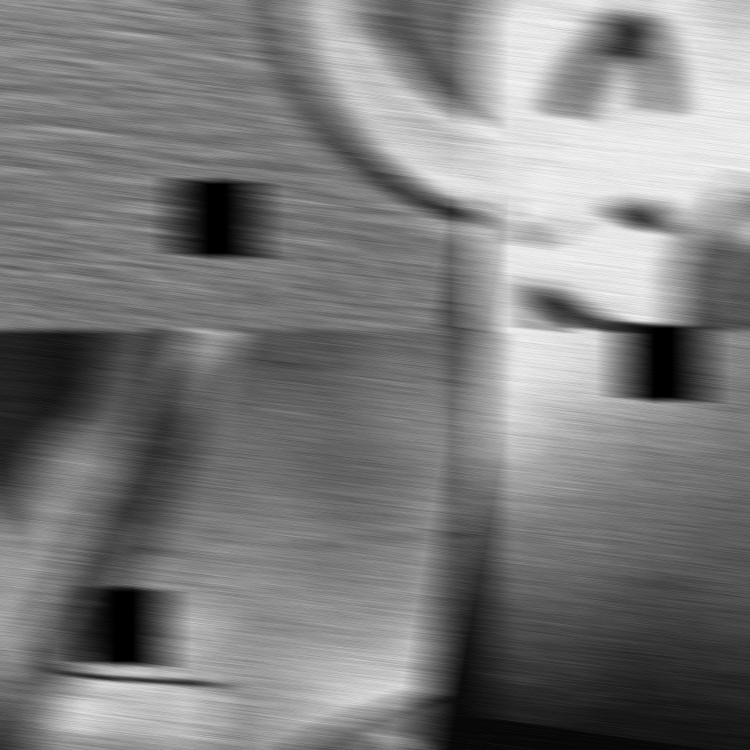Airbag: (0, 329, 487, 750), (0, 0, 487, 330), (473, 330, 750, 746), (473, 0, 750, 330)
